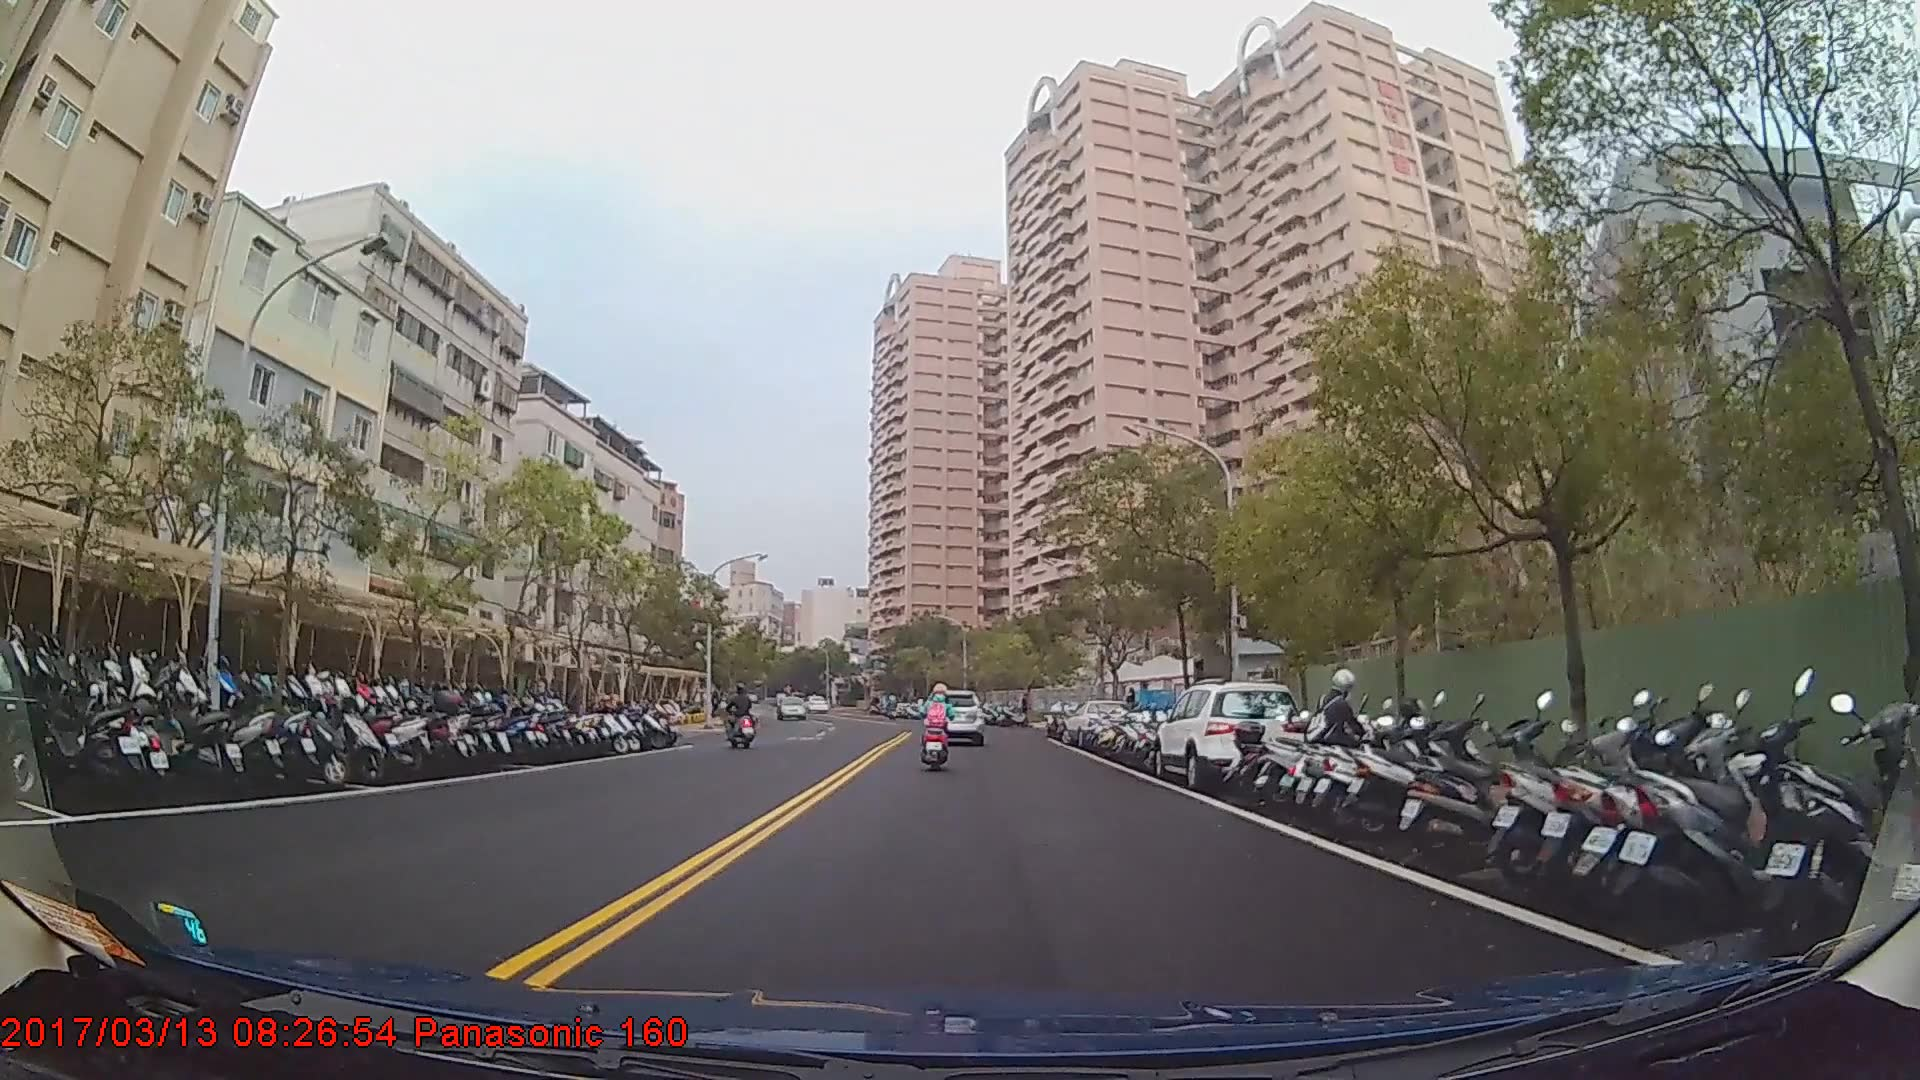rider: (919, 680, 956, 774), (724, 680, 756, 745)
vehicle: (1150, 680, 1303, 789), (1058, 696, 1136, 748), (926, 687, 983, 744), (773, 694, 806, 718)
